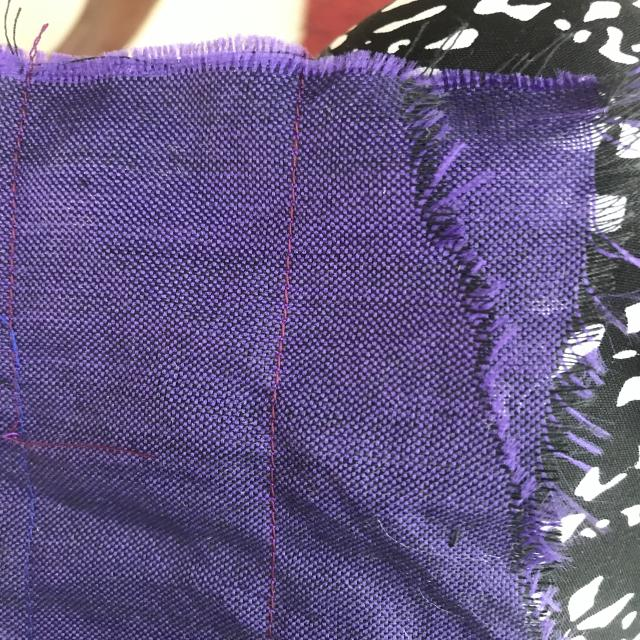good: (273, 128, 308, 378), (263, 405, 283, 623)
